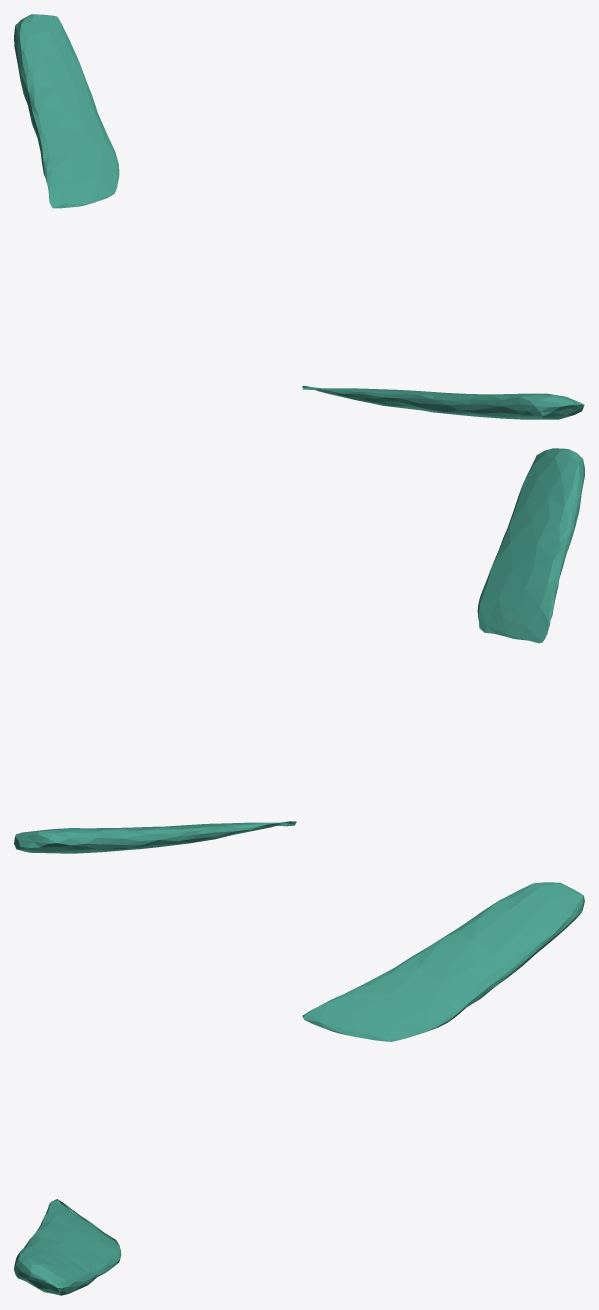
3 renders of one model, top to bottom at view 1: azimuth 30°, elevation 25°; view 2: azimuth 150°, elevation 25°; view 3: azimuth 330°, elevation 25°, orthographic.
Visible parts, largest first — view 1: 1086.obj; view 2: 1086.obj; view 3: 1086.obj.
Boxes of the visible parts, x1,y1,x2,y2 form: 1086.obj: [14, 14, 584, 419]; 1086.obj: [14, 448, 584, 853]; 1086.obj: [14, 882, 584, 1295].
Bounding box in the file's own units: 814 × 423 × 5122.
